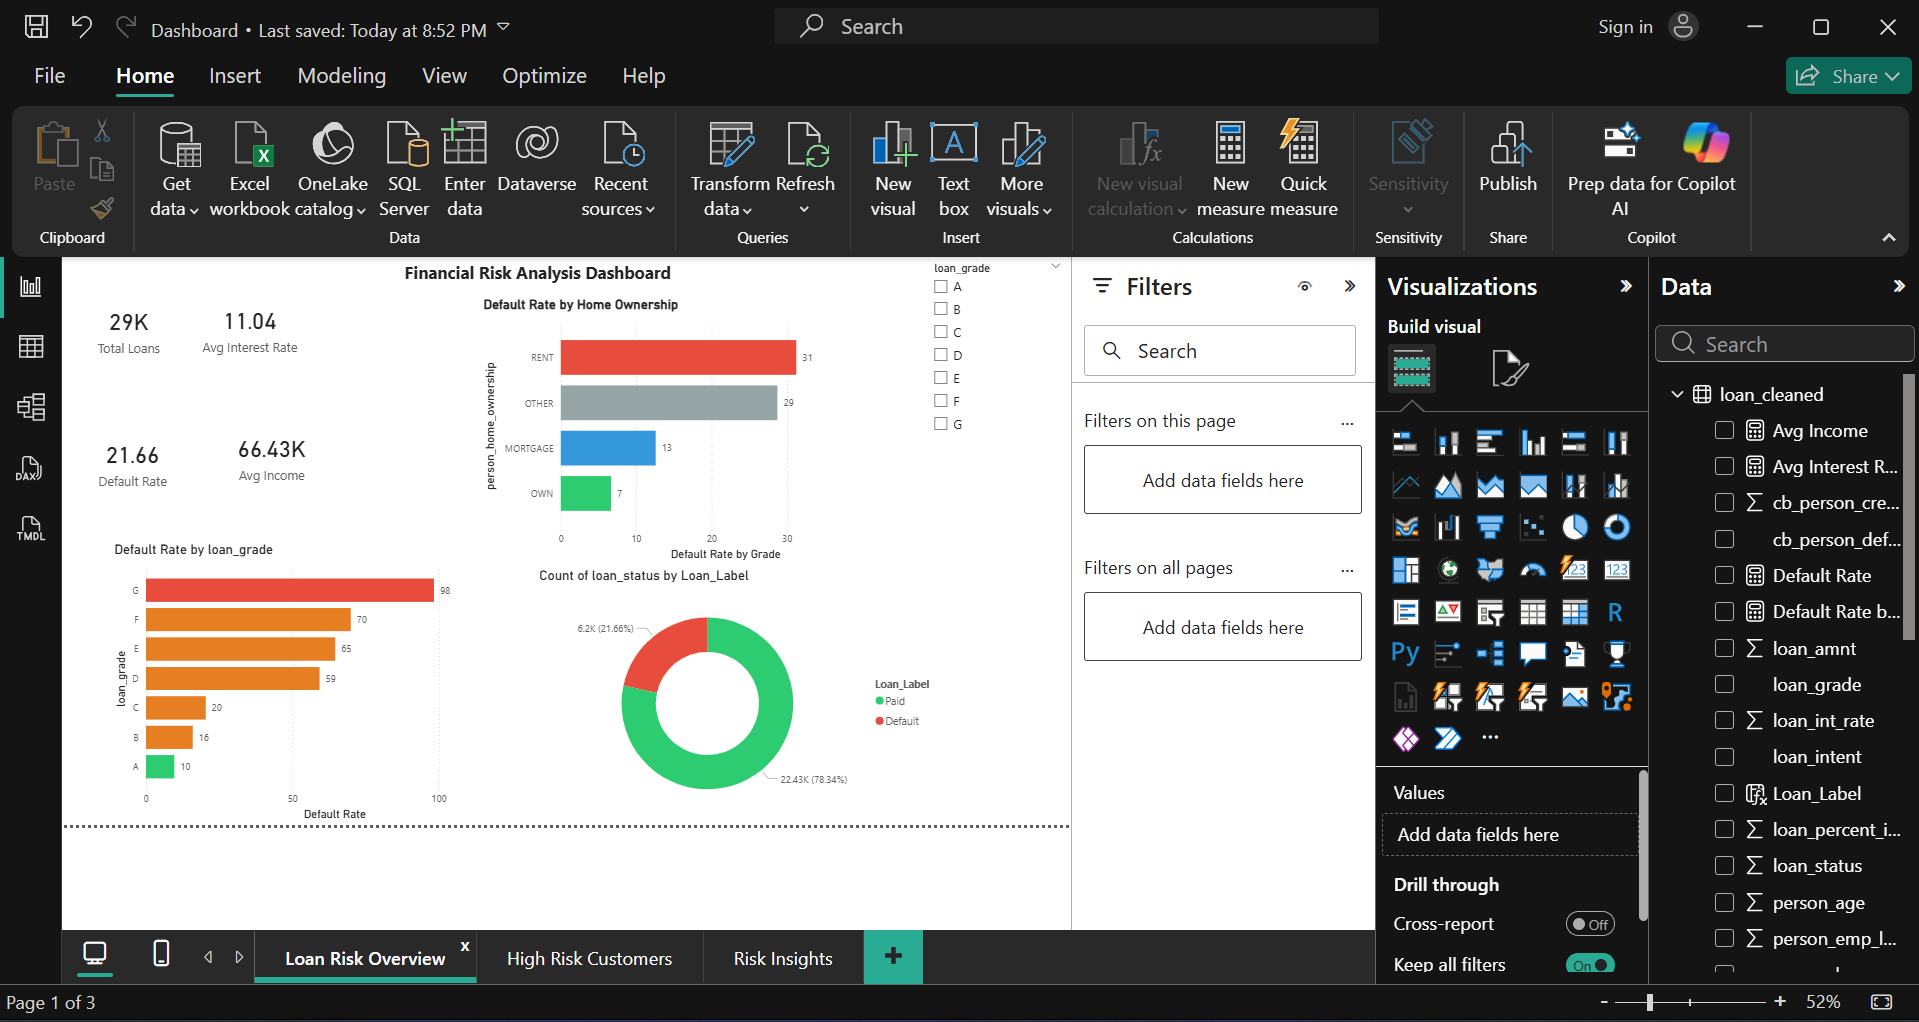

This screenshot's page, from the dashboard's own definition file:
{"tool":"powerbi","page":{"name":"Loan Risk Overview","canvas":[1280,720],"ordinal":0},"visuals":[{"type":"card","fields":{"Values":["loan_cleaned.Total Loans"]},"box":[0,0,168.8,182.2],"z":0},{"type":"card","fields":{"Values":["loan_cleaned.Avg Interest Rate"]},"box":[170.7,0,134.2,178.4],"z":1000},{"type":"card","fields":{"Values":["loan_cleaned.Default Rate"]},"box":[7.7,178.4,163,163],"z":2000},{"type":"card","fields":{"Values":["loan_cleaned.Avg Income"]},"box":[170.7,163,189.9,178.4],"z":3000},{"type":"barChart","fields":{"Category":["loan_cleaned.loan_grade"],"Y":["loan_cleaned.Default Rate"]},"box":[61.4,360.5,538.9,358.6],"z":4000},{"type":"barChart","title":"Default Rate by Home Ownership","fields":{"Category":["loan_cleaned.person_home_ownership"],"Y":["loan_cleaned.Default Rate by Grade"]},"box":[529.3,49.9,533.1,339.4],"z":5000},{"type":"donutChart","fields":{"Category":["loan_cleaned.Loan_Label"],"Y":["CountNonNull(loan_cleaned.loan_status)"]},"box":[600.3,393.1,523.6,326],"z":6000},{"type":"slicer","fields":{"Values":["loan_cleaned.loan_grade"]},"box":[1093.1,0,186,260.8],"z":7000},{"type":"textbox","box":[404.7,0,391.2,49.9],"z":7001}]}

Visuals, with their boxes on the page's 1280x720 design canvas (x1, y1, x2, y2). These are canvas units, not pixel positions in the 1919x1022 screenshot, which may show the page scaled, cropped or inside an application window:
card - loan_cleaned.Total Loans: (x1=0, y1=0, x2=169, y2=182)
card - loan_cleaned.Avg Interest Rate: (x1=171, y1=0, x2=305, y2=178)
card - loan_cleaned.Default Rate: (x1=8, y1=178, x2=171, y2=341)
card - loan_cleaned.Avg Income: (x1=171, y1=163, x2=361, y2=341)
barChart - loan_cleaned.loan_grade x loan_cleaned.Default Rate: (x1=61, y1=360, x2=600, y2=719)
"Default Rate by Home Ownership" barChart: (x1=529, y1=50, x2=1062, y2=389)
donutChart - loan_cleaned.Loan_Label x CountNonNull(loan_cleaned.loan_status): (x1=600, y1=393, x2=1124, y2=719)
slicer - loan_cleaned.loan_grade: (x1=1093, y1=0, x2=1279, y2=261)
textbox: (x1=405, y1=0, x2=796, y2=50)
